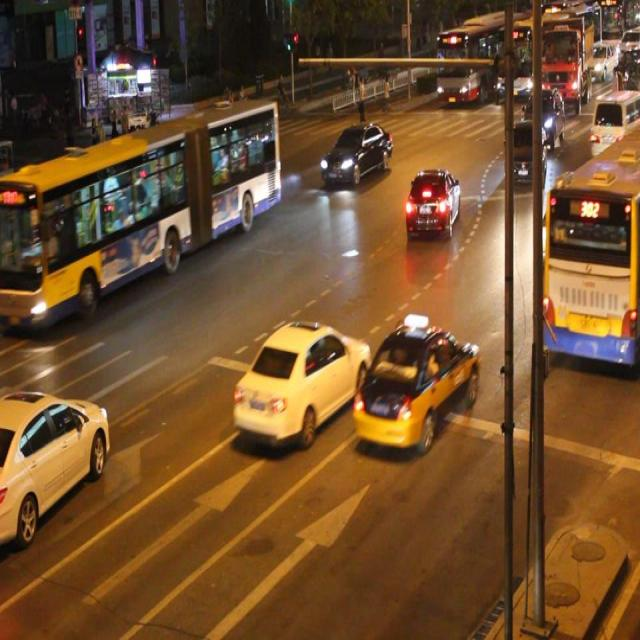car: (234, 318, 370, 440), (1, 387, 110, 536), (354, 322, 477, 448), (320, 121, 394, 186), (404, 164, 460, 239), (503, 120, 544, 186)
van: (1, 98, 279, 319), (544, 130, 640, 361)
